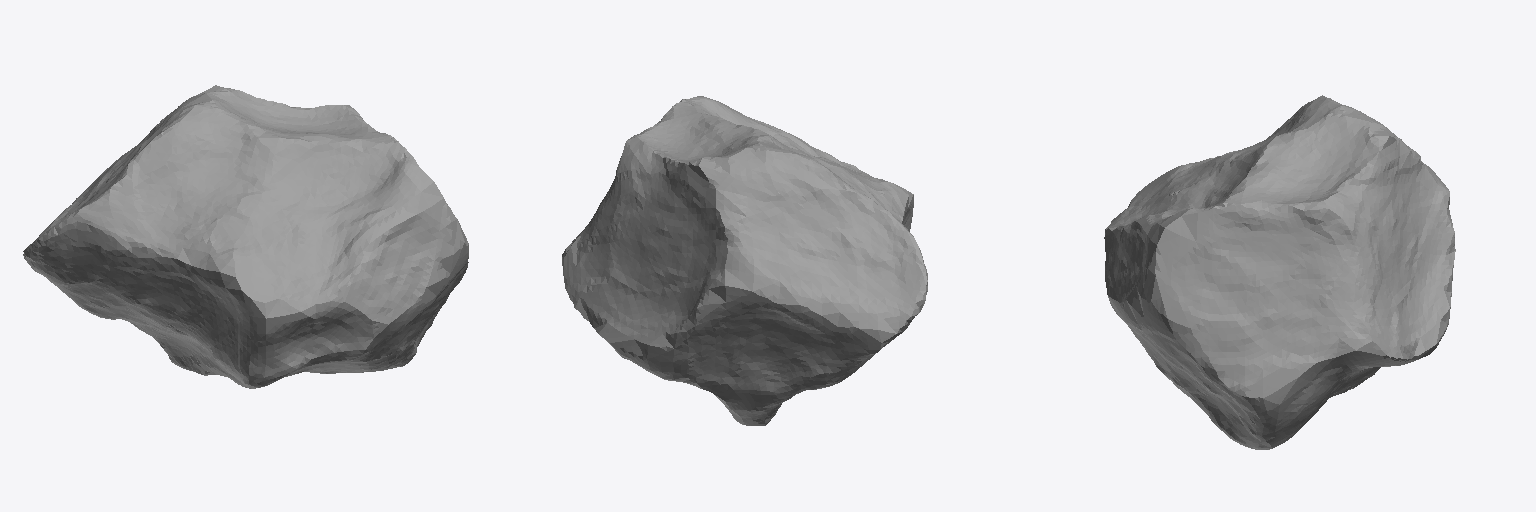
Rendered from Rock1_High.obj.
The picture shows the model from 3 angles: view 1: azimuth 30°, elevation 25°; view 2: azimuth 150°, elevation 25°; view 3: azimuth 270°, elevation 25°; orthographic projection.
Visible parts, largest first — view 1: Rock_High_Cube; view 2: Rock_High_Cube; view 3: Rock_High_Cube.
Part boxes in pixels (x1,y1,x2,y2): Rock_High_Cube: (23, 85, 468, 388); Rock_High_Cube: (562, 96, 927, 425); Rock_High_Cube: (1104, 95, 1455, 449).
Bounding box in the file's own units: 2.26 × 1.53 × 1.8.